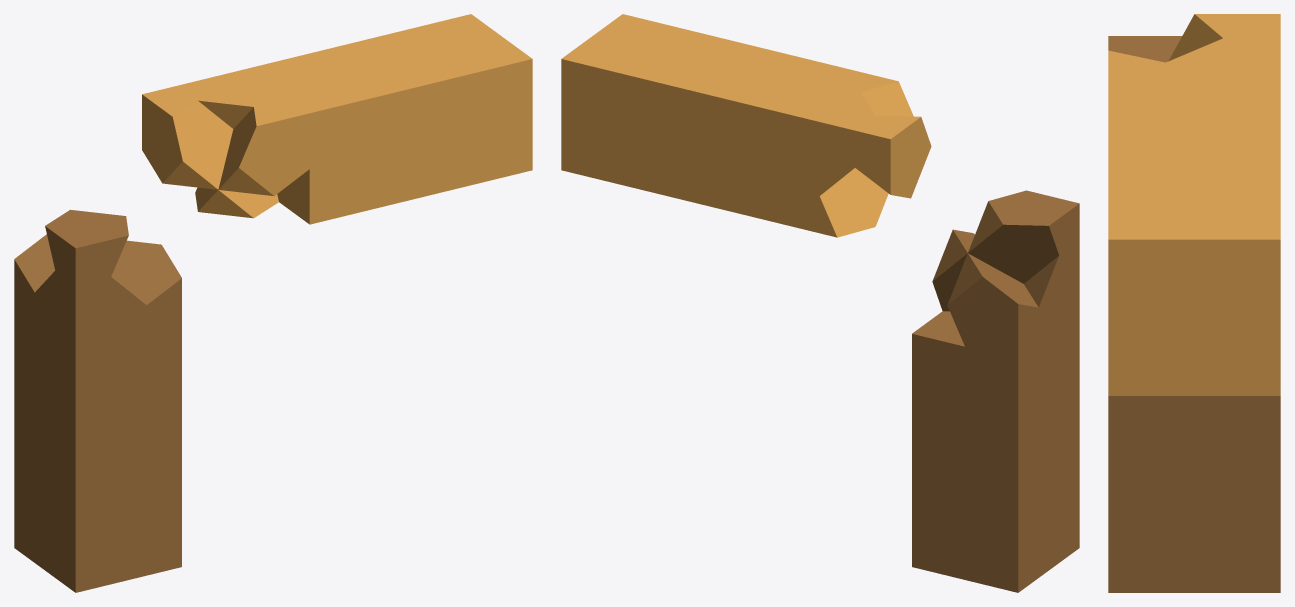
3 views of the same model, side by side, from view 1: azimuth 30°, elevation 25°; view 2: azimuth 150°, elevation 25°; view 3: azimuth 270°, elevation 25° (orthographic). The views are drawn at different scales.
Size of the model in its own units: 8.59 by 7.59 by 2.
